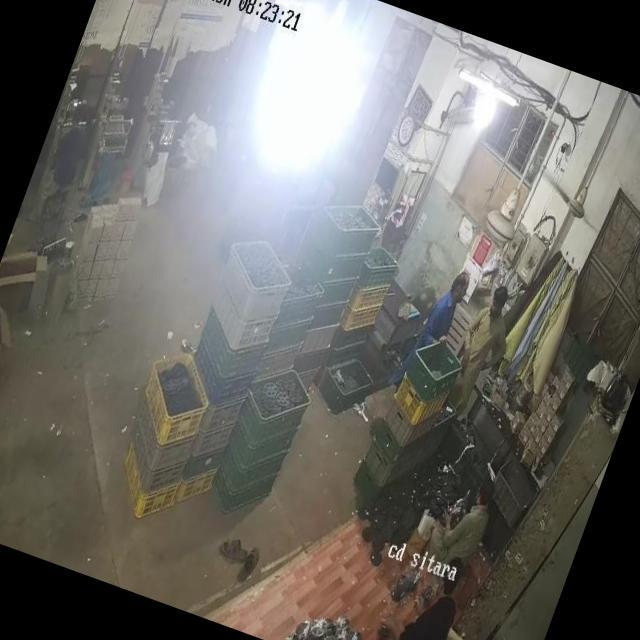person: (387, 553, 468, 640), (456, 288, 516, 382), (414, 263, 474, 355), (446, 479, 504, 552)
